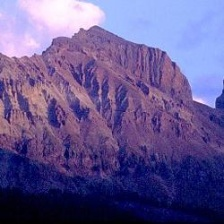neutral: (1, 13, 220, 201)
